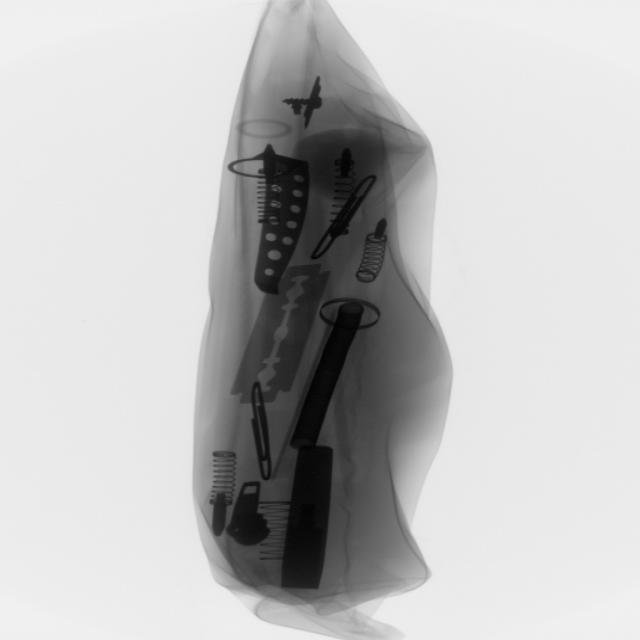BLADE: (230, 254, 335, 414), (240, 378, 286, 482)
